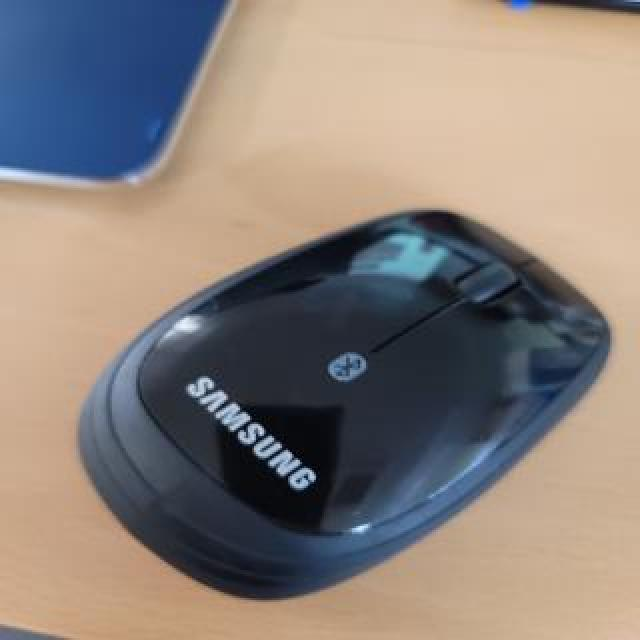mouse: (198, 190, 588, 602)
